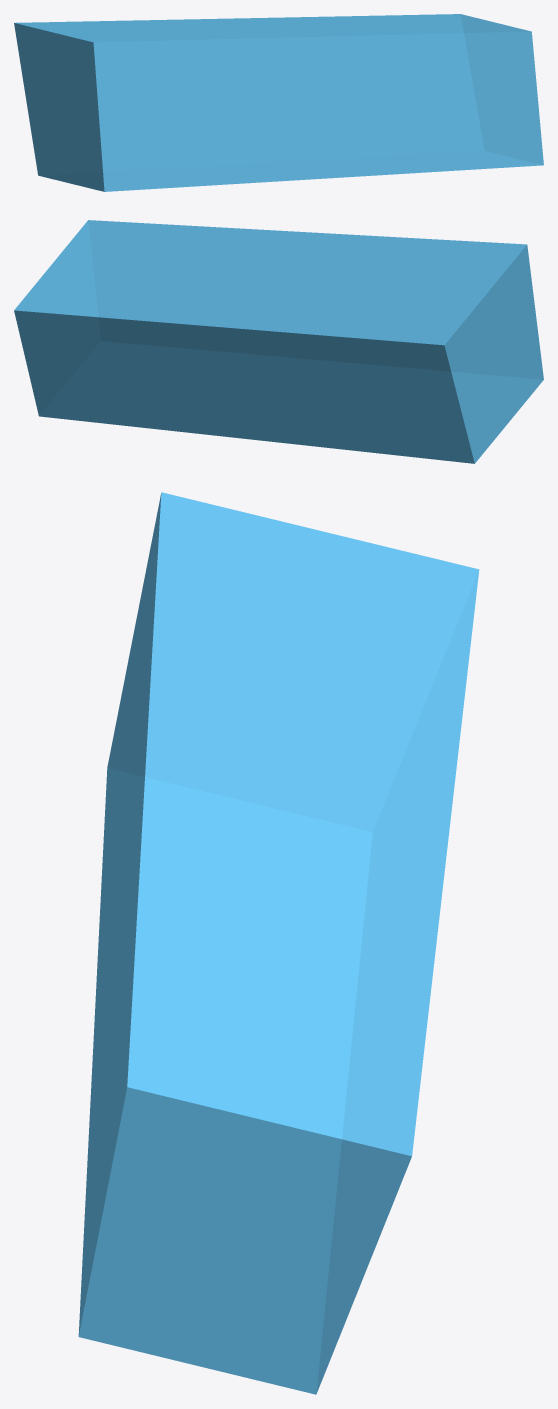
The model's file is Event_420094457_HErechit_58.fbx.
3 views of the same model, one above another, from view 1: azimuth 30°, elevation 25°; view 2: azimuth 150°, elevation 25°; view 3: azimuth 270°, elevation 25° (orthographic). The views are drawn at different scales.
Parts seen in each view (by area): view 1: Model; view 2: Model; view 3: Model.
Boxes of the visible parts, left/top/right/bottom form: Model: left=14, top=14, right=543, bottom=191; Model: left=14, top=220, right=543, bottom=463; Model: left=78, top=492, right=479, bottom=1394.
Bounding box in the file's own units: 1.29 × 0.6913 × 0.5197.
